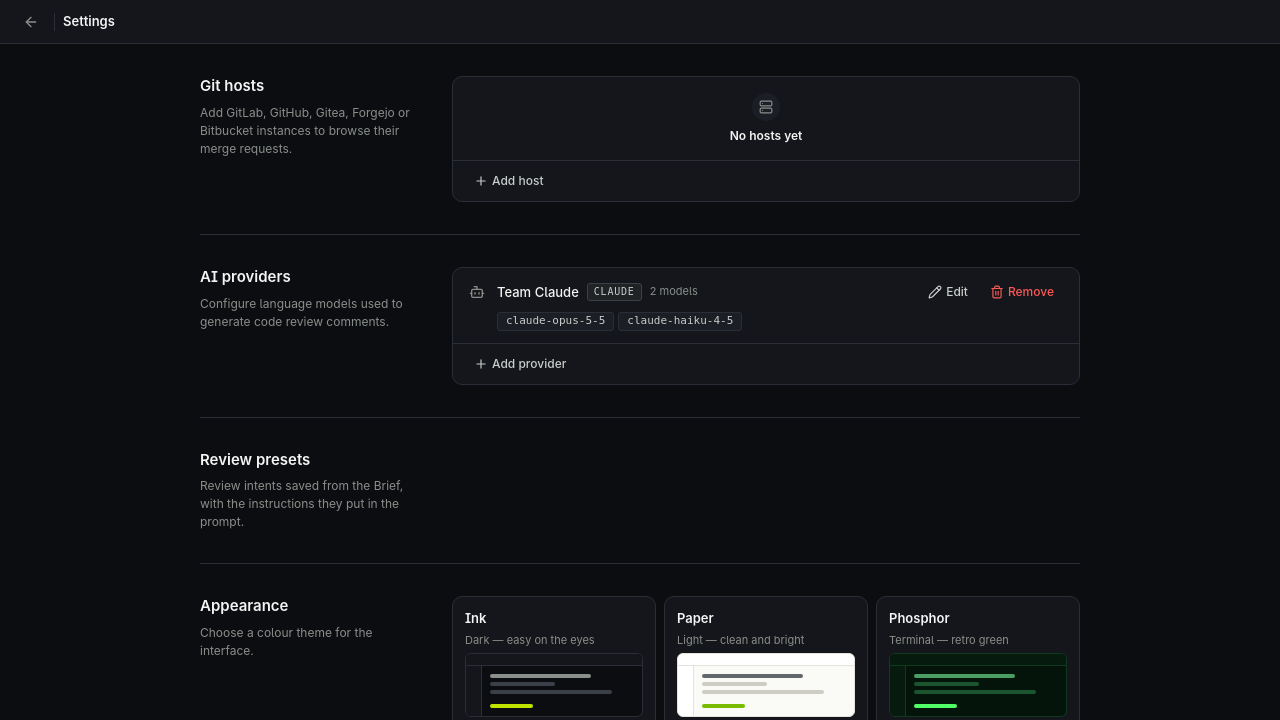
Test: SettingsPage — AI provider models › shows why fetching failed
Step 1. Click the button "Edit" → click(948, 292), box [919,280,977,304]
(page scrolled)
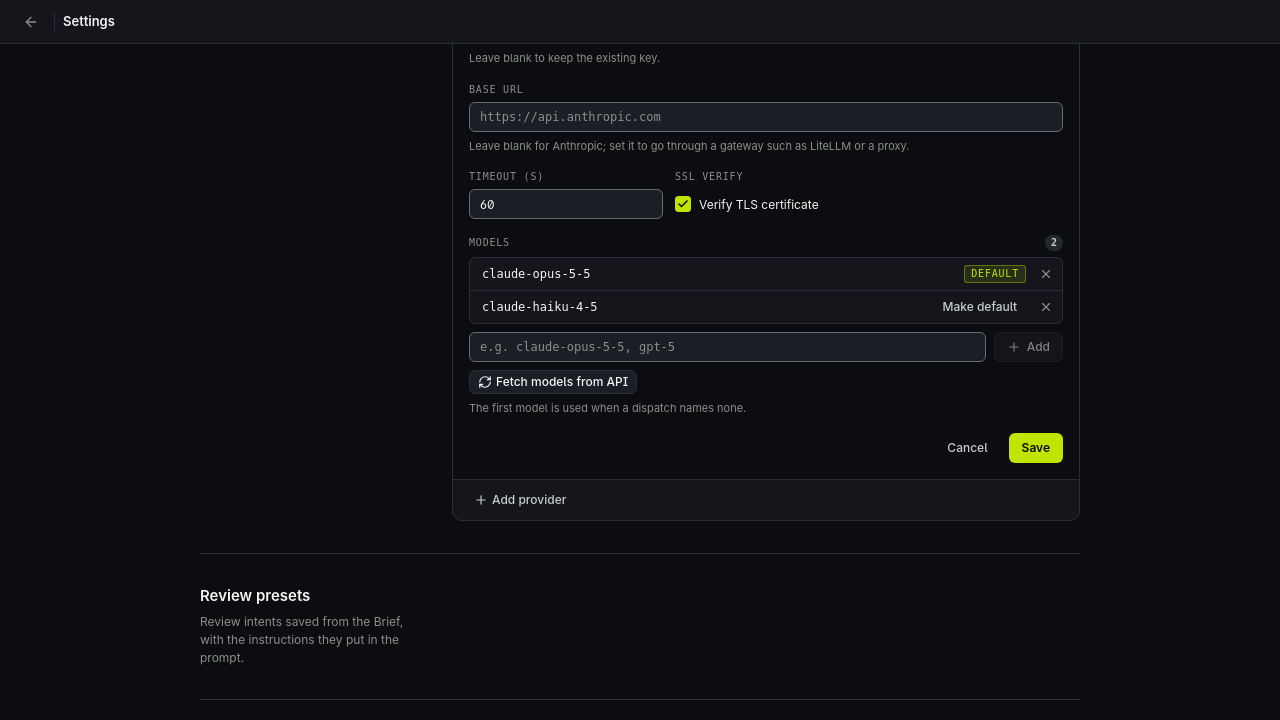
Step 2. Click the button "Fetch models from API" → click(553, 382), box [469,370,637,394]
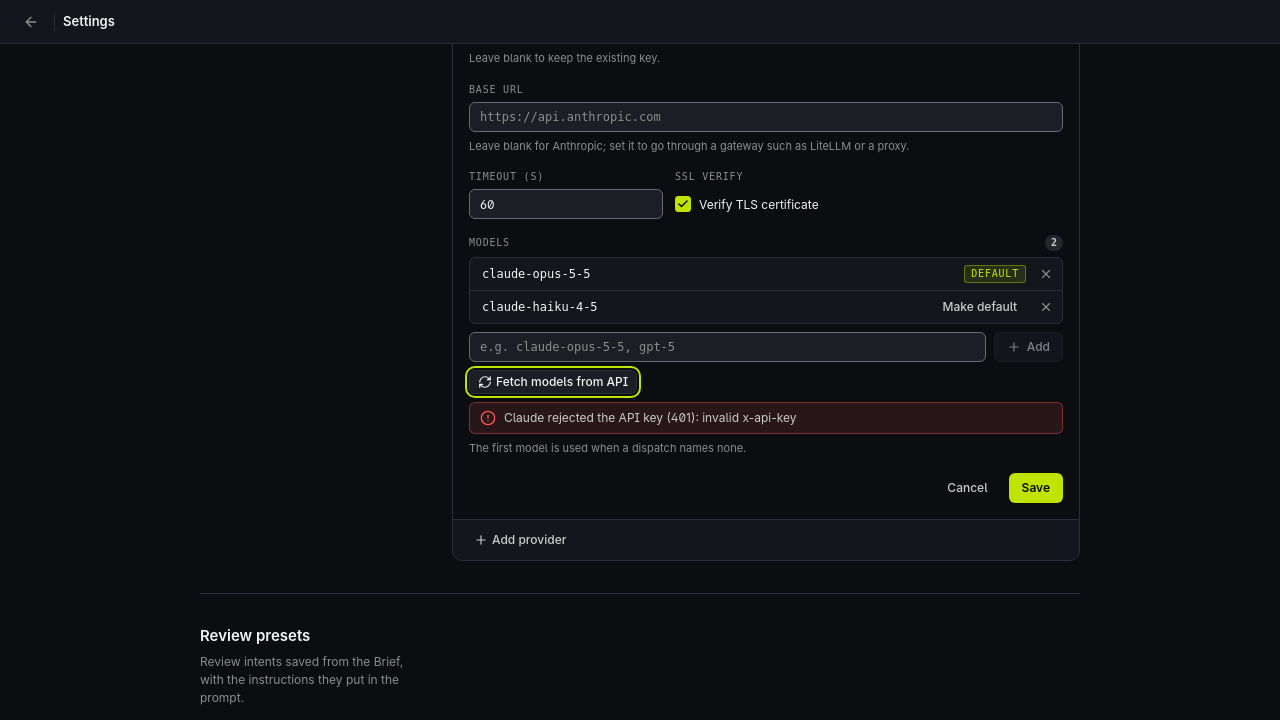
Expected: the message shows "invalid x-api-key", [504,410,796,425]
